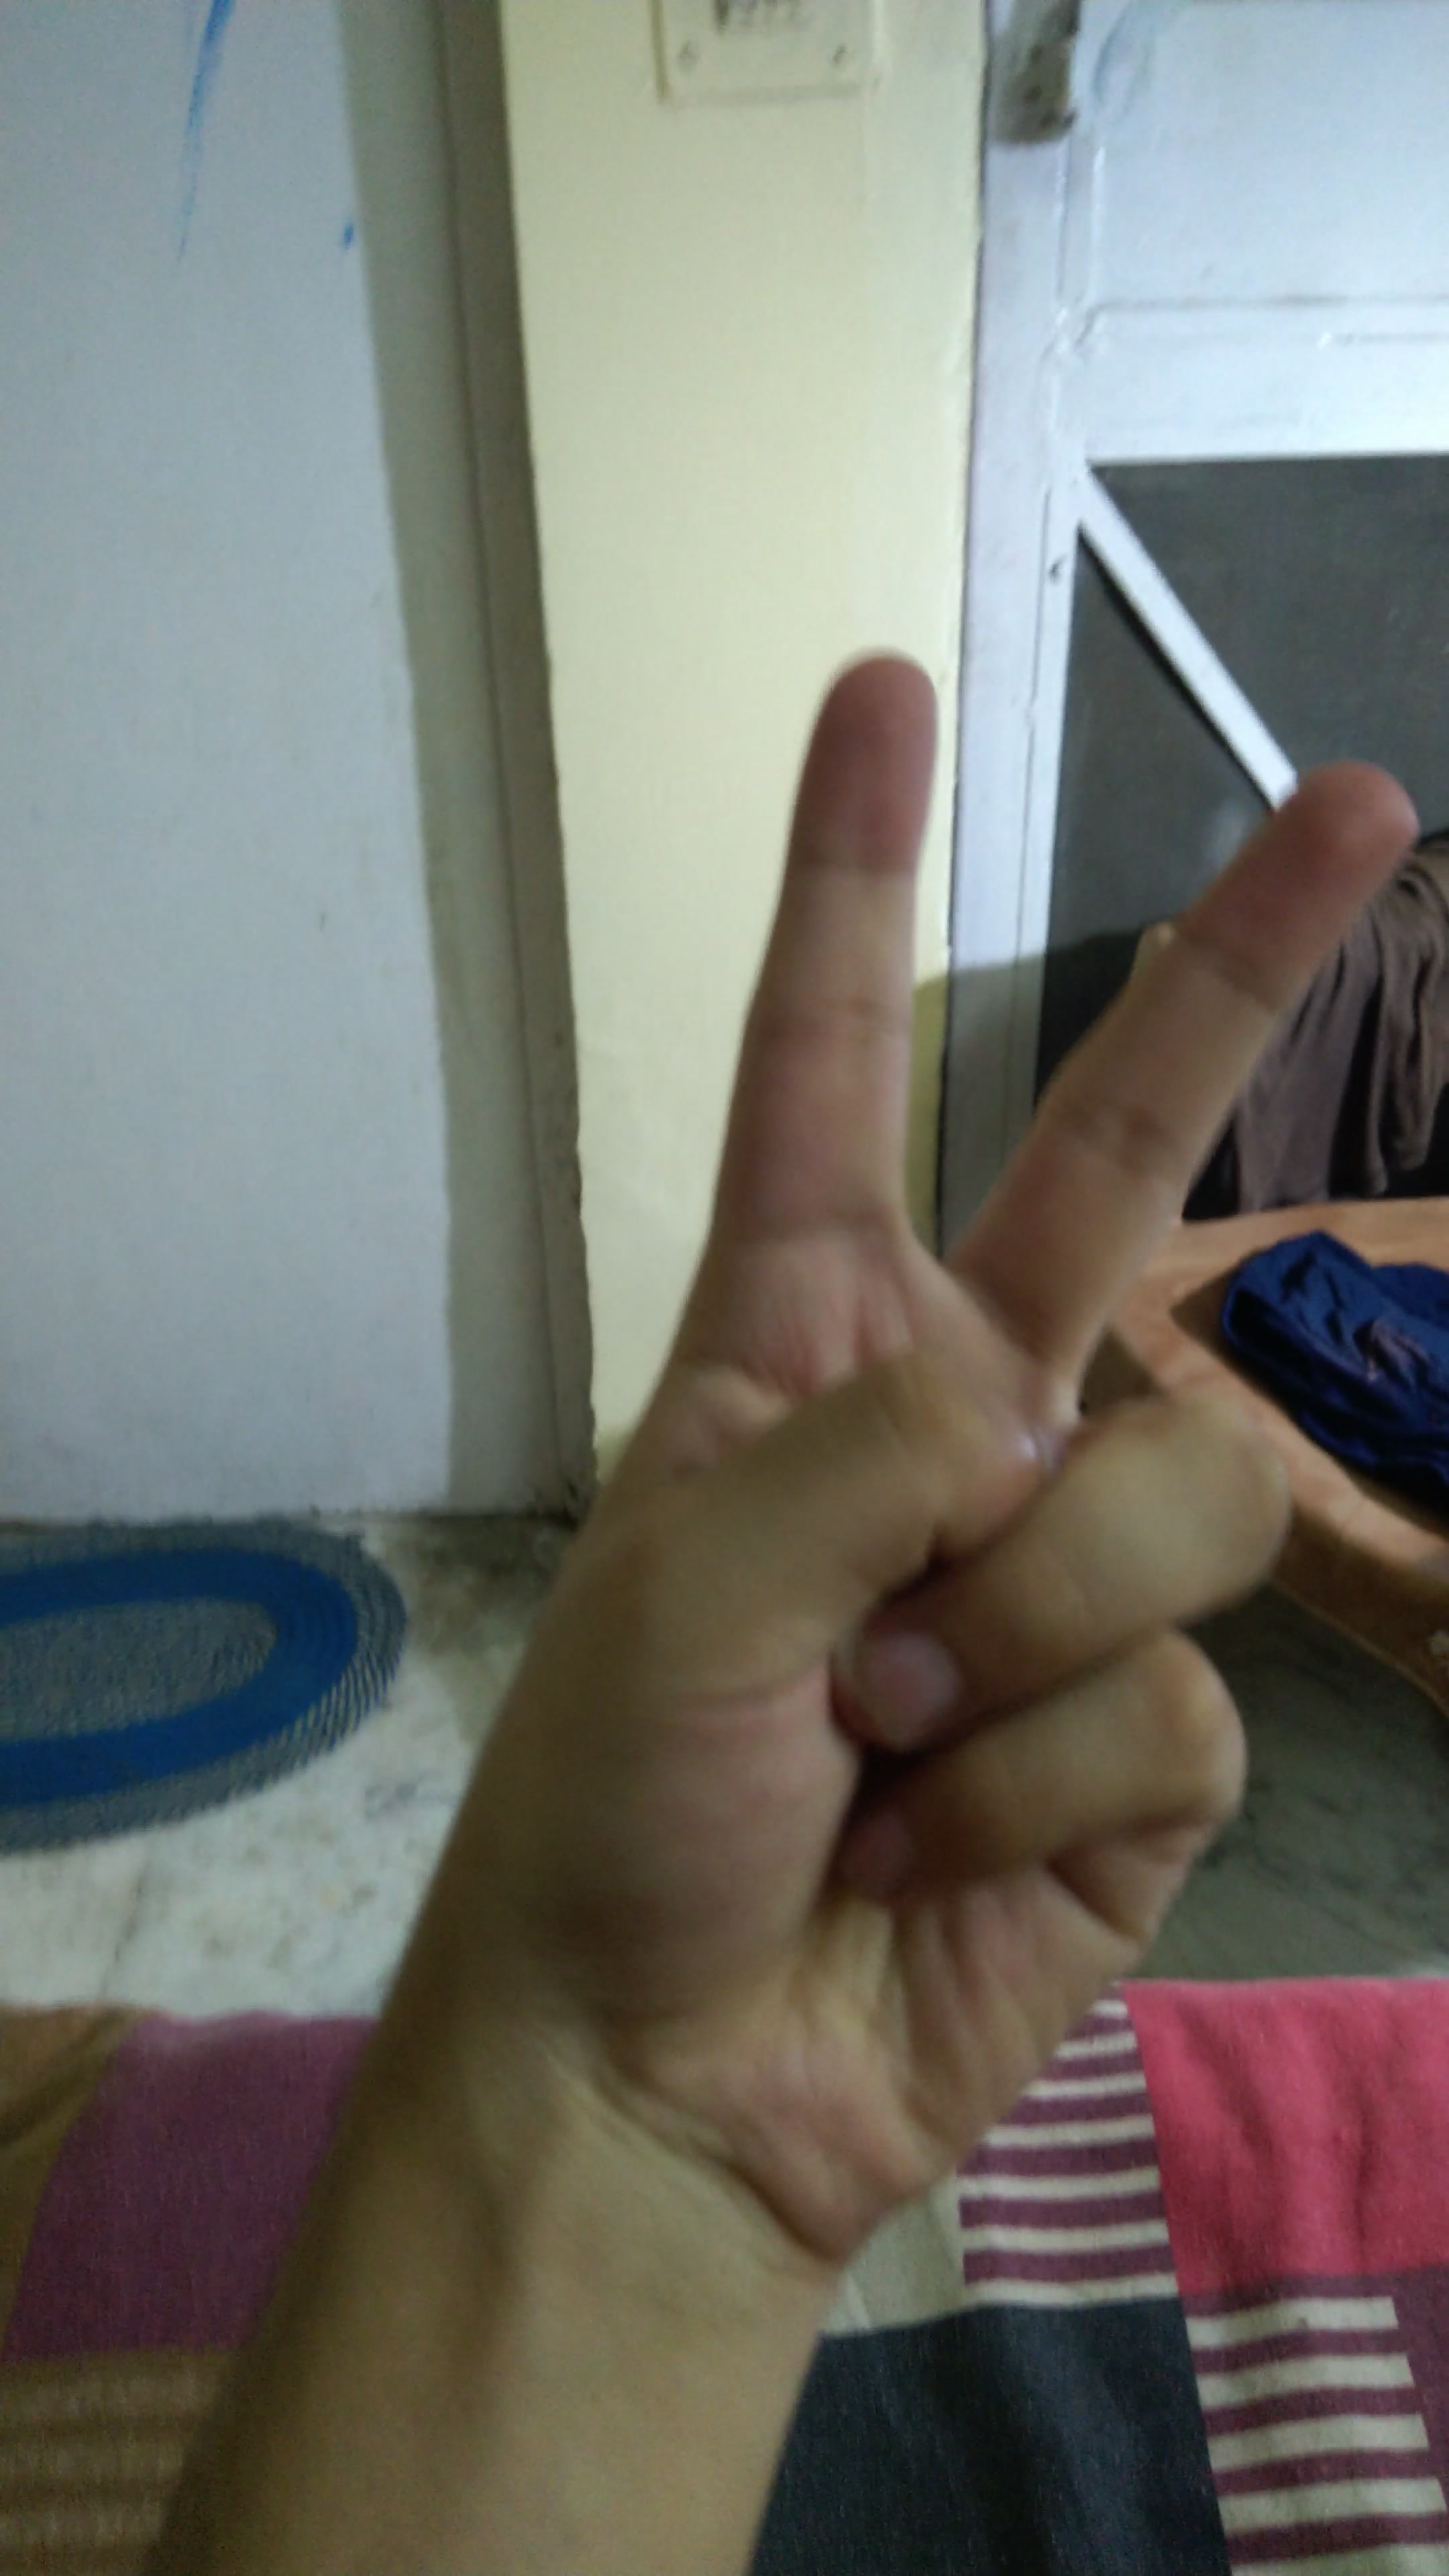hand: (306, 580, 1435, 2282)
